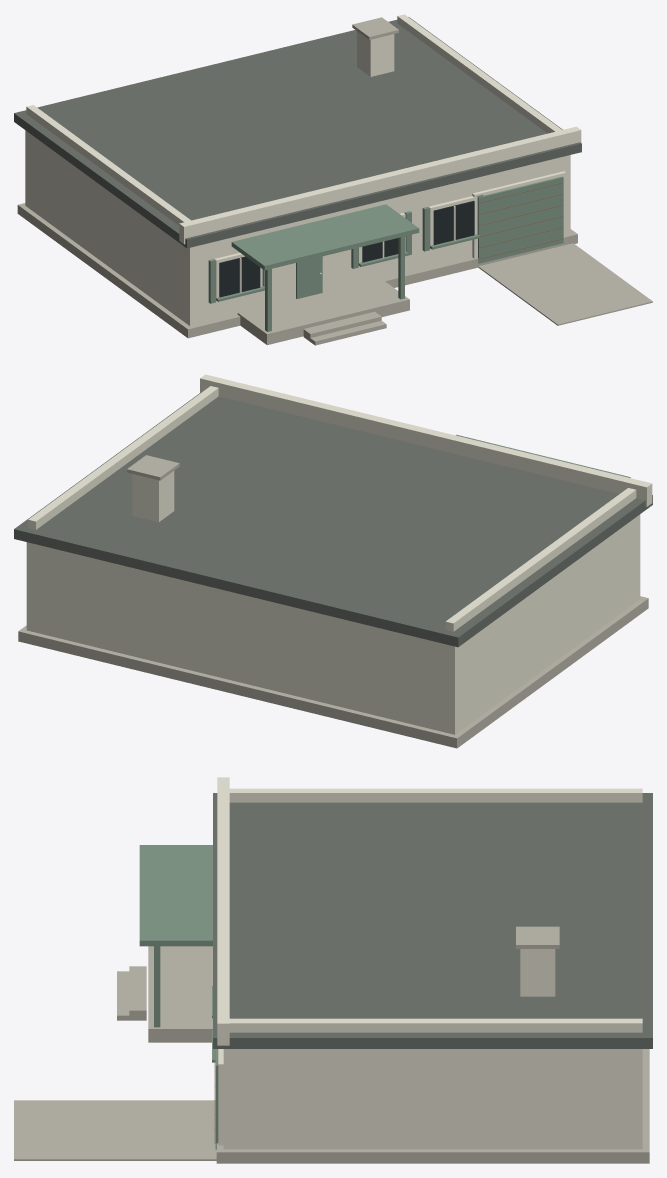
The model's file is house-2.glb.
The picture shows the model from 3 angles, top to bottom: view 1: azimuth 30°, elevation 25°; view 2: azimuth 150°, elevation 25°; view 3: azimuth 270°, elevation 25°; orthographic projection. The views are drawn at different scales.
Visible parts, largest first — view 1: shingle, ivory, concrete, sage, rubber, wood; view 2: shingle, ivory, concrete; view 3: shingle, ivory, concrete, sage.
Part boxes in pixels (x1,y1,x2,y2): shingle: (14, 17, 581, 248); ivory: (25, 14, 581, 326); concrete: (17, 17, 652, 345); sage: (208, 176, 563, 331); rubber: (219, 201, 474, 297); wood: (479, 182, 563, 259); shingle: (14, 392, 652, 647); ivory: (26, 374, 652, 734); concrete: (18, 455, 648, 748); shingle: (213, 793, 652, 1048); ivory: (217, 777, 642, 1149); concrete: (14, 926, 649, 1163); sage: (139, 845, 218, 1149).
Bounding box in the file's own units: 16.7 × 5.71 × 18.3.
